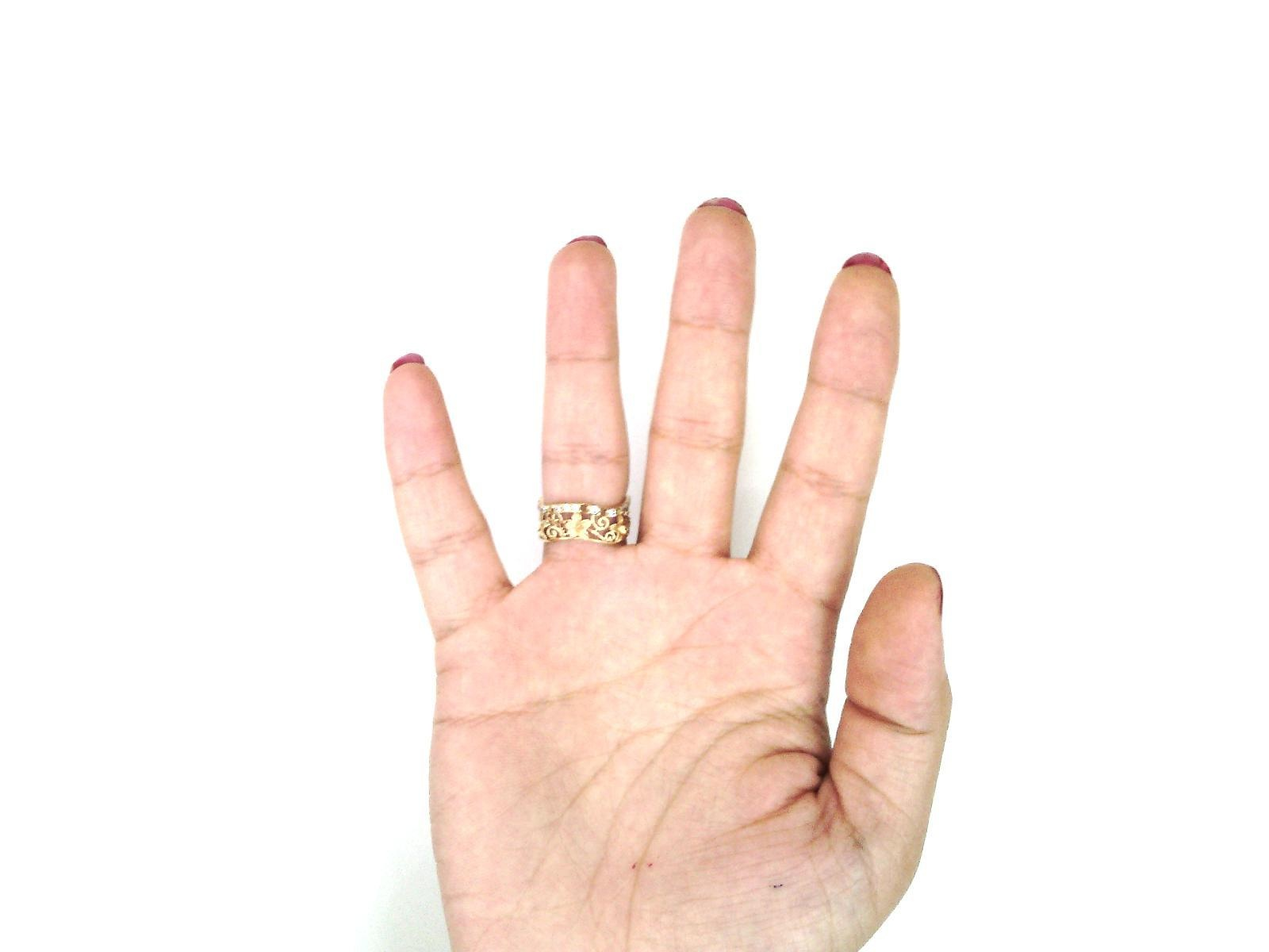open_palm: (379, 197, 955, 951)
